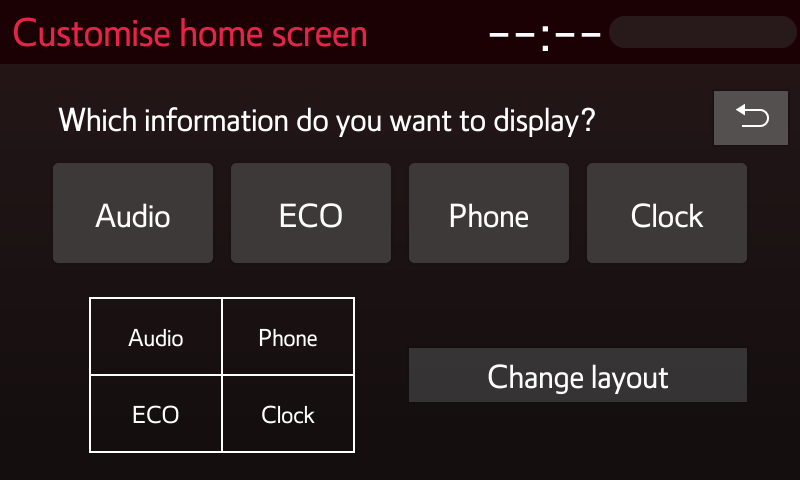touchPart: (402, 342, 751, 411), (227, 158, 401, 269), (582, 159, 754, 271), (47, 159, 216, 267), (408, 159, 571, 269), (713, 87, 790, 151)
untouchPart: (84, 291, 361, 461), (55, 96, 607, 142), (13, 9, 370, 52), (482, 14, 793, 53)
